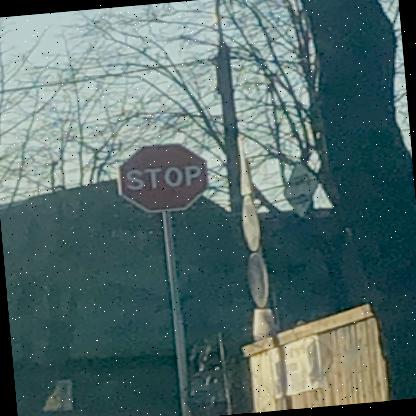stop: (112, 139, 210, 216)
